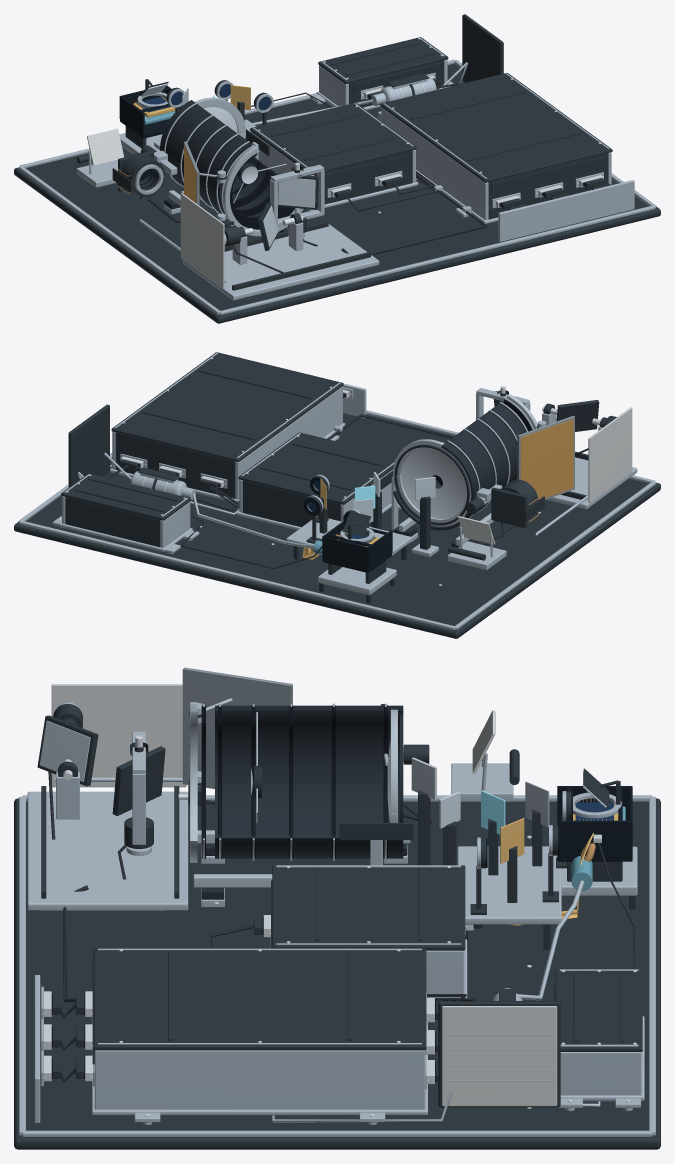
The model's file is payload.glb.
3 renders of one model, top to bottom at view 1: azimuth 30°, elevation 25°; view 2: azimuth 150°, elevation 25°; view 3: azimuth 270°, elevation 25°, orthographic. The views are drawn at different scales.
Visible parts, largest first — view 1: Bench — Anodized chassis, InstrumentElectronicsCover — Anodized chassis, ScanSystem — Machined satin aluminum, SensorElectronicsCover — Anodized chassis, TelescopeStructure — Black anodized aluminum, Bench — Machined satin aluminum, InstrumentElectronics — Machined satin aluminum, SpacecraftInterface — Machined satin aluminum, InstrumentElectronics — Anodized chassis, CoolerElectronicsCover — Anodized chassis, ScanSystem — Radiator coating, SensorElectronics — Anodized chassis (+20 smaller); view 2: Bench — Anodized chassis, InstrumentElectronicsCover — Anodized chassis, SensorElectronicsCover — Anodized chassis, TelescopeStructure — Black anodized aluminum, Bench — Machined satin aluminum, InstrumentElectronics — Anodized chassis, Mechanisms — Representative MLI outer layer, InstrumentElectronics — Machined satin aluminum, CoolerElectronicsCover — Anodized chassis, ScanSystem — Radiator coating, Optics — Illustrative mirror, Thermal — Anodized chassis (+25 smaller); view 3: Bench — Anodized chassis, InstrumentElectronicsCover — Anodized chassis, TelescopeStructure — Black anodized aluminum, InstrumentElectronics — Machined satin aluminum, ScanSystem — Machined satin aluminum, SensorElectronicsCover — Anodized chassis, Thermal — Radiator coating, Bench — Machined satin aluminum, ScanSystem — Radiator coating, CoolerElectronicsCover — Anodized chassis, AftOptics — Machined satin aluminum, Mechanisms — MLI inner layer (+27 smaller).
Boxes of the visible parts, box(x1,y1,x2,y2) form: Bench — Anodized chassis: box(14, 63, 660, 323); InstrumentElectronicsCover — Anodized chassis: box(380, 73, 612, 182); ScanSystem — Machined satin aluminum: box(139, 164, 379, 300); SensorElectronicsCover — Anodized chassis: box(250, 102, 416, 175); TelescopeStructure — Black anodized aluminum: box(160, 100, 287, 232); Bench — Machined satin aluminum: box(18, 59, 656, 314); InstrumentElectronics — Machined satin aluminum: box(381, 107, 611, 224); SpacecraftInterface — Machined satin aluminum: box(498, 180, 634, 241); InstrumentElectronics — Anodized chassis: box(488, 153, 608, 219); CoolerElectronicsCover — Anodized chassis: box(318, 37, 448, 84); ScanSystem — Radiator coating: box(180, 193, 224, 288); SensorElectronics — Anodized chassis: box(314, 150, 412, 204); Bench — Anodized chassis: box(14, 413, 660, 638); InstrumentElectronicsCover — Anodized chassis: box(111, 352, 343, 462); SensorElectronicsCover — Anodized chassis: box(238, 432, 397, 504); TelescopeStructure — Black anodized aluminum: box(393, 402, 528, 547); Bench — Machined satin aluminum: box(18, 410, 656, 630); InstrumentElectronics — Anodized chassis: box(115, 432, 235, 498); Mechanisms — Representative MLI outer layer: box(520, 419, 573, 499); InstrumentElectronics — Machined satin aluminum: box(110, 386, 345, 503); CoolerElectronicsCover — Anodized chassis: box(61, 473, 190, 520); ScanSystem — Radiator coating: box(588, 407, 632, 503); Optics — Illustrative mirror: box(401, 448, 466, 518); Thermal — Anodized chassis: box(69, 404, 179, 489); Bench — Anodized chassis: box(14, 798, 660, 1149); InstrumentElectronicsCover — Anodized chassis: box(93, 948, 426, 1050); TelescopeStructure — Black anodized aluminum: box(201, 705, 407, 899); InstrumentElectronics — Machined satin aluminum: box(92, 993, 427, 1124); ScanSystem — Machined satin aluminum: box(27, 702, 188, 910); SensorElectronicsCover — Anodized chassis: box(272, 865, 465, 950); Thermal — Radiator coating: box(442, 1006, 557, 1106); Bench — Machined satin aluminum: box(19, 795, 655, 1136); ScanSystem — Radiator coating: box(51, 684, 186, 787); CoolerElectronicsCover — Anodized chassis: box(555, 969, 642, 1051); AftOptics — Machined satin aluminum: box(457, 791, 566, 924); Mechanisms — MLI inner layer: box(182, 667, 292, 788).
Bounding box in the file's own units: 11.4 × 2.97 × 9.1.
